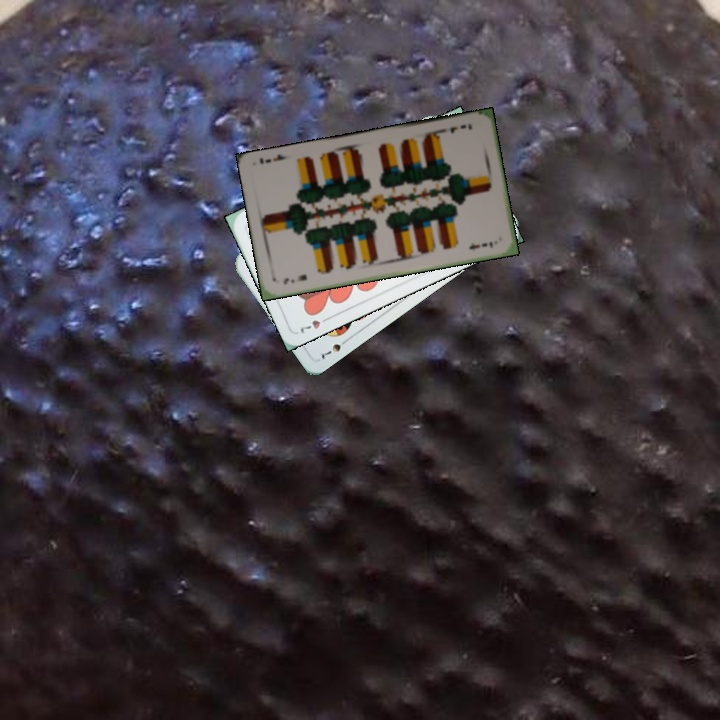E7: (446, 119, 474, 136), (280, 271, 309, 286)
H7: (296, 312, 333, 336)
S7: (317, 334, 351, 362)
